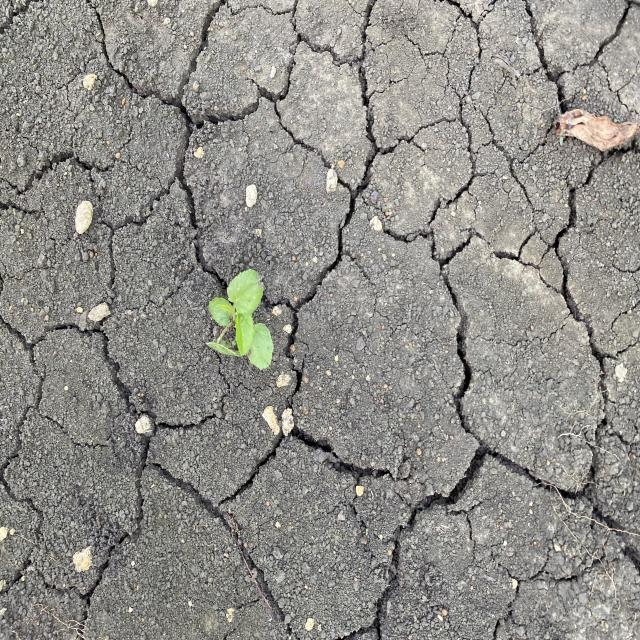PricklySida: (204, 269, 276, 373)
